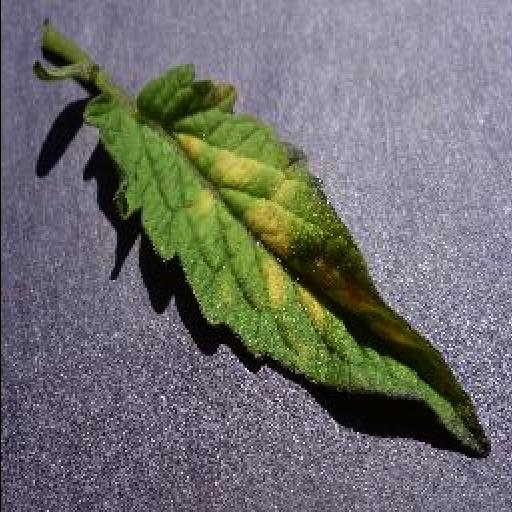disease_tomato: (82, 64, 488, 458)
